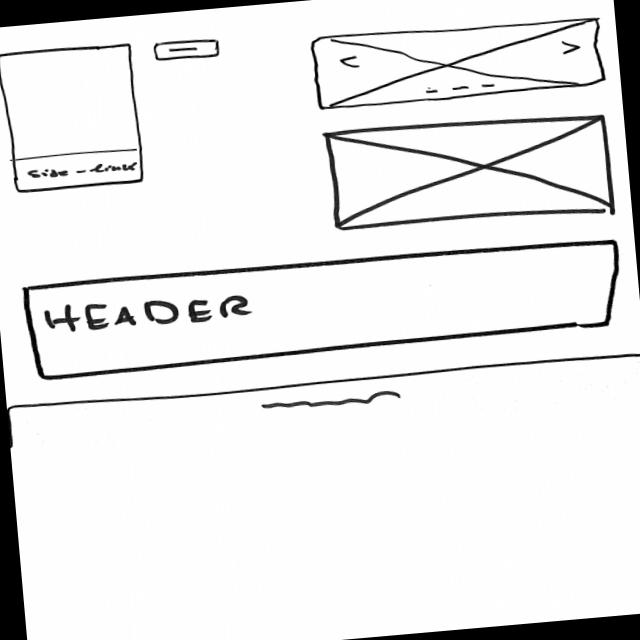container: (21, 234, 626, 383), (1, 41, 146, 196)
icon-button: (153, 37, 221, 64)
image: (322, 107, 620, 240), (312, 10, 611, 113)
label: (40, 288, 255, 338), (25, 158, 137, 185)
text: (259, 388, 403, 417)
